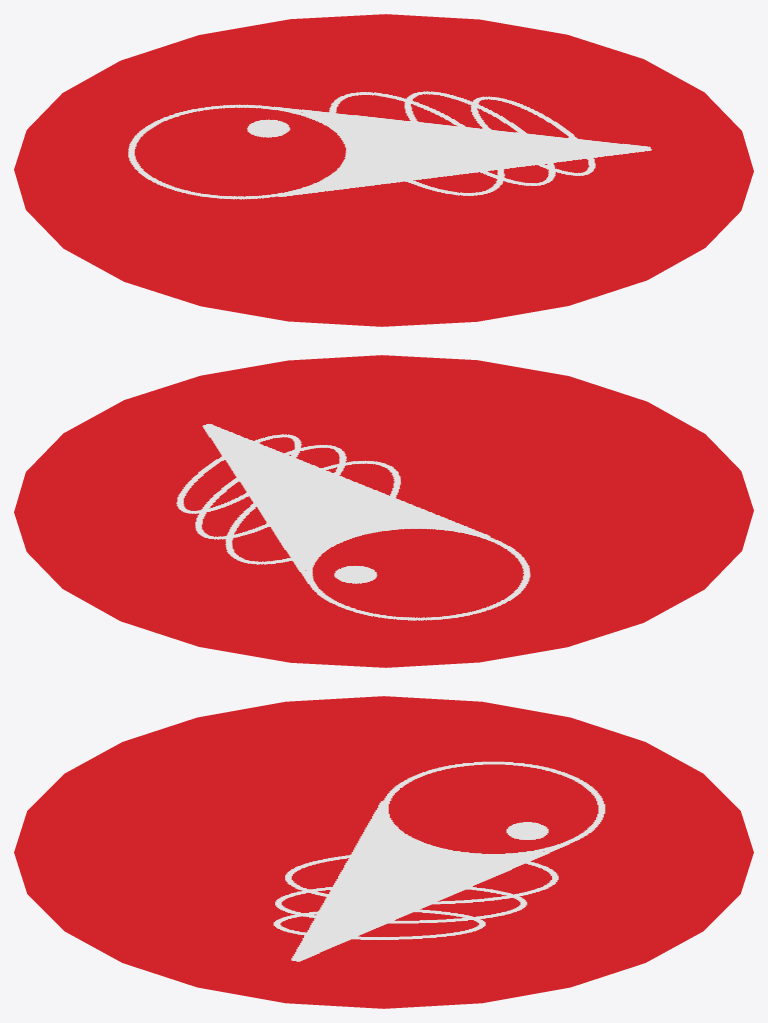
File: 加速球.fbx
The picture shows the model from 3 angles, top to bottom: view 1: azimuth 30°, elevation 25°; view 2: azimuth 150°, elevation 25°; view 3: azimuth 270°, elevation 25°; orthographic projection.
Visible parts, largest first — view 1: 加速球; view 2: 加速球; view 3: 加速球.
Part boxes in pixels (x1,y1,x2,y2): 加速球: (14, 14, 753, 326); 加速球: (14, 355, 753, 667); 加速球: (14, 696, 753, 1008).
Size of the model in its own units: 4 by 2.45e-16 by 4.
1 material, 1 textured.
